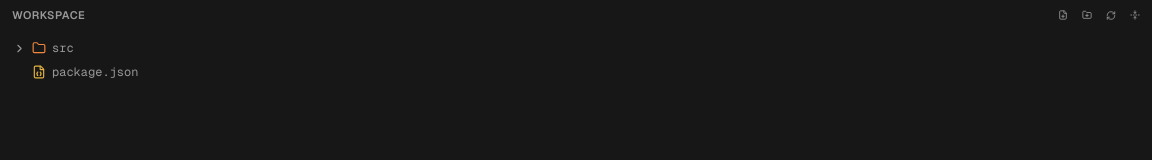
FileExplorer context menus › shows creation items plus Copy as Path for folders
Right-click the text "src".
right_click(63, 48)  # box [52,40,74,56]
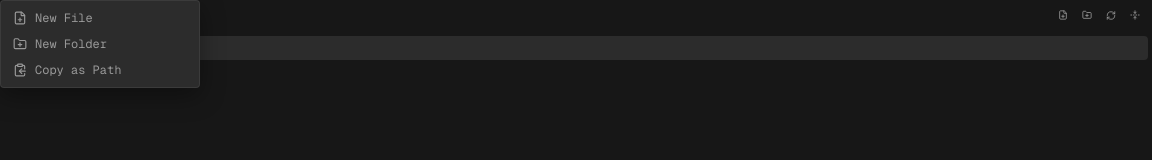
expect the text "New Folder" is shown: met, box [35,36,107,52]
expect the text "New File" is shown: met, box [35,10,93,26]
expect the text "Copy as Path" is shown: met, box [35,62,121,78]
